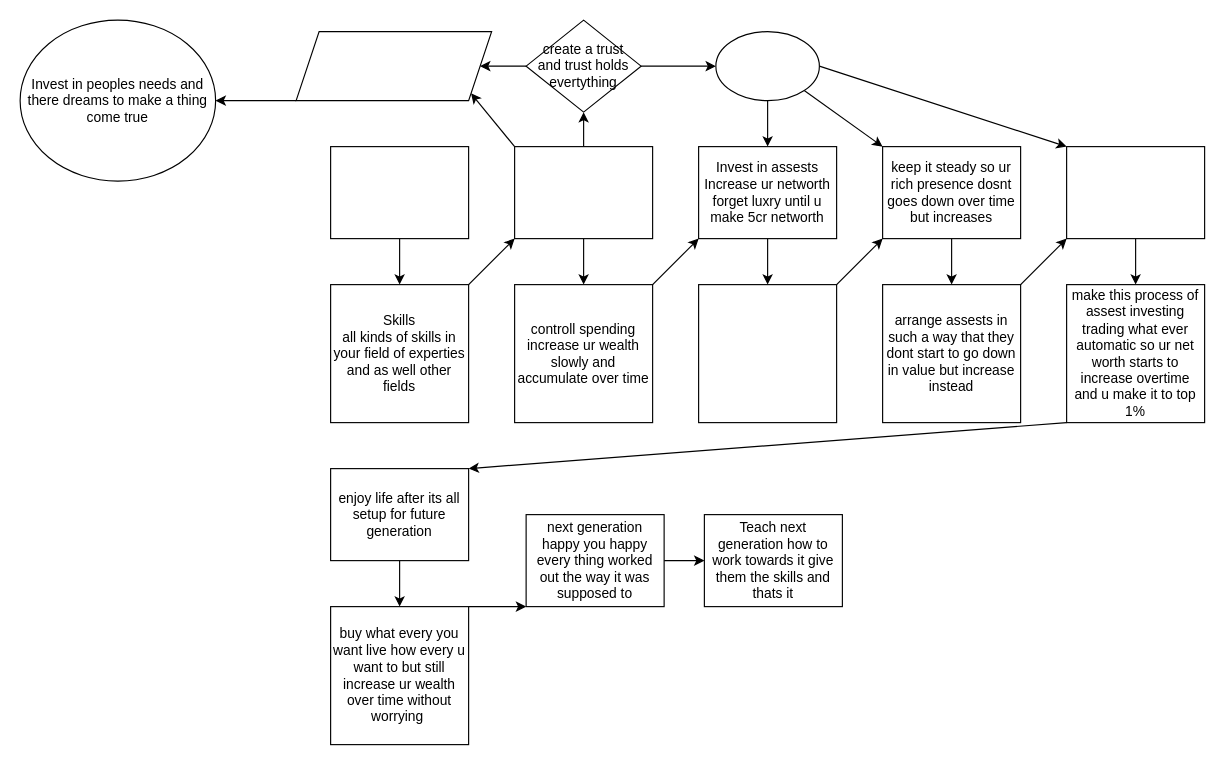
Some shapes in this 1225 by 765 pixel diagram are drawn without their labels. The centre of each missing label's shape, as x and y in pixels:
"Buy assests like land flats to rent stocks shares hedg funds (risky)" belongs at (x=393, y=65).
"Dont increase ur way of living control money reduce spending" belongs at (x=583, y=192).
"invest in assests so they start to pay intrest and more" belongs at (x=767, y=353).
"make every step automatic so ur money grows without ur effort and you still earn" belongs at (x=1135, y=192).
"Own nothing but own the trust" belongs at (x=767, y=65).
"work towards a highg paying job" belongs at (x=399, y=192).
